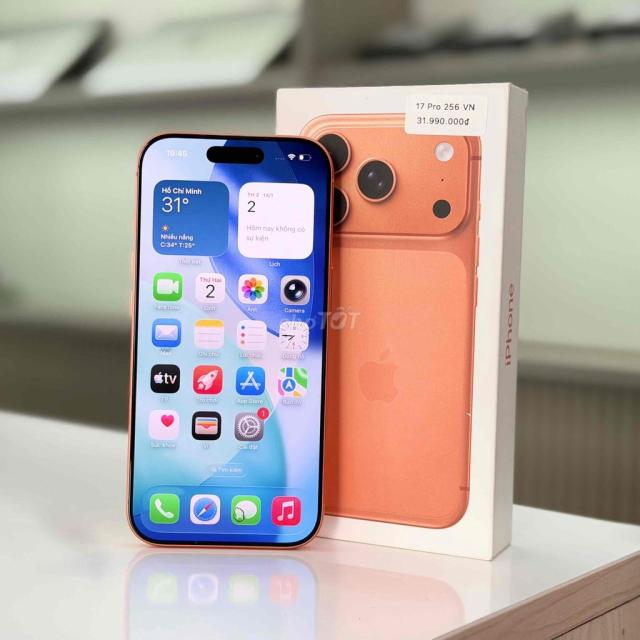gen_17: (126, 128, 329, 556)
